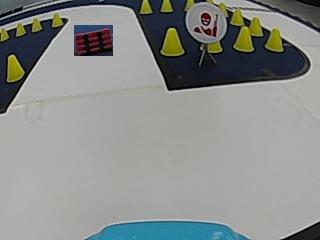evil: (184, 2, 227, 44)
